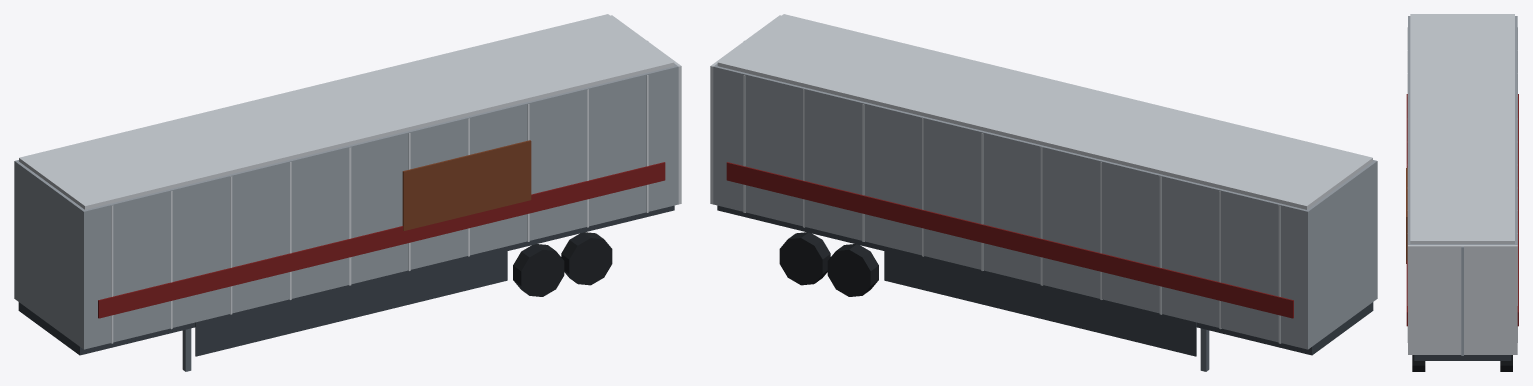
The model's file is env_box_trailer.fbx.
3 views of the same model, side by side, from view 1: azimuth 30°, elevation 25°; view 2: azimuth 150°, elevation 25°; view 3: azimuth 270°, elevation 25° (orthographic). The views are drawn at different scales.
Parts seen in each view (by area): view 1: env_box_trailer; view 2: env_box_trailer; view 3: env_box_trailer.
Part boxes in pixels (x1,y1,x2,y2): env_box_trailer: [14, 14, 681, 371]; env_box_trailer: [710, 14, 1377, 371]; env_box_trailer: [1406, 14, 1518, 371].
Bounding box in the file's own units: 4227 × 1375 × 874.
